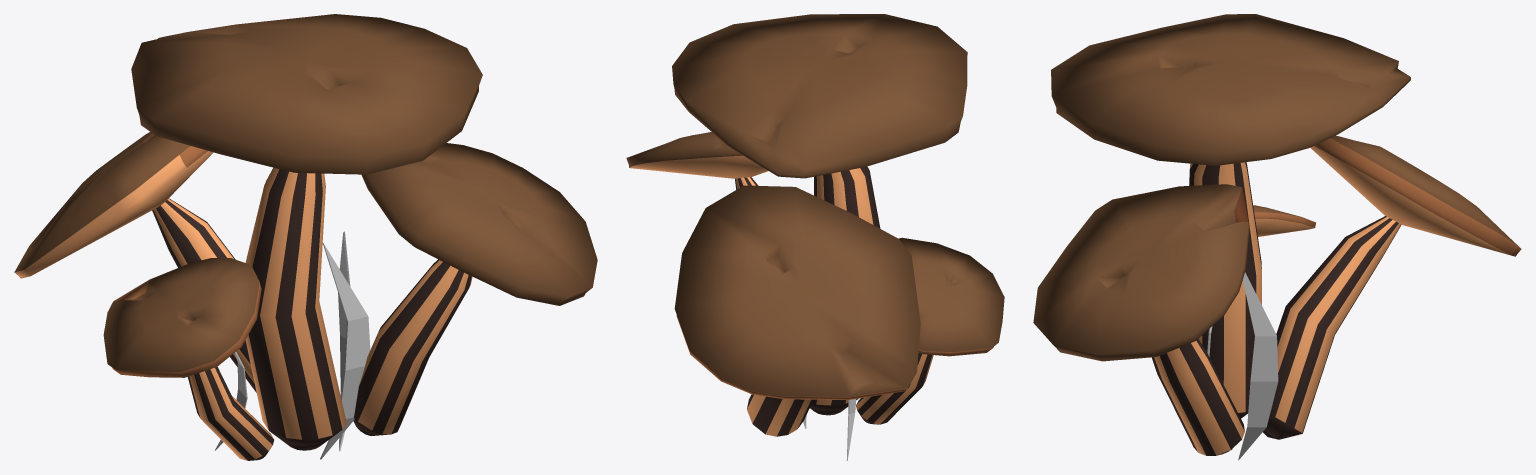
File: SM_Fungi_01.fbx
The picture shows the model from 3 angles, left to right: view 1: azimuth 30°, elevation 25°; view 2: azimuth 150°, elevation 25°; view 3: azimuth 270°, elevation 25°; orthographic projection. The views are drawn at different scales.
Parts seen in each view (by area): view 1: Hongos; view 2: Hongos; view 3: Hongos.
Part boxes in pixels (<box>): Hongos: <box>14,14,597,460</box>; Hongos: <box>626,14,1004,460</box>; Hongos: <box>1033,14,1521,460</box>.
Size of the model in its own units: 0.5908 by 0.5334 by 0.6199.
